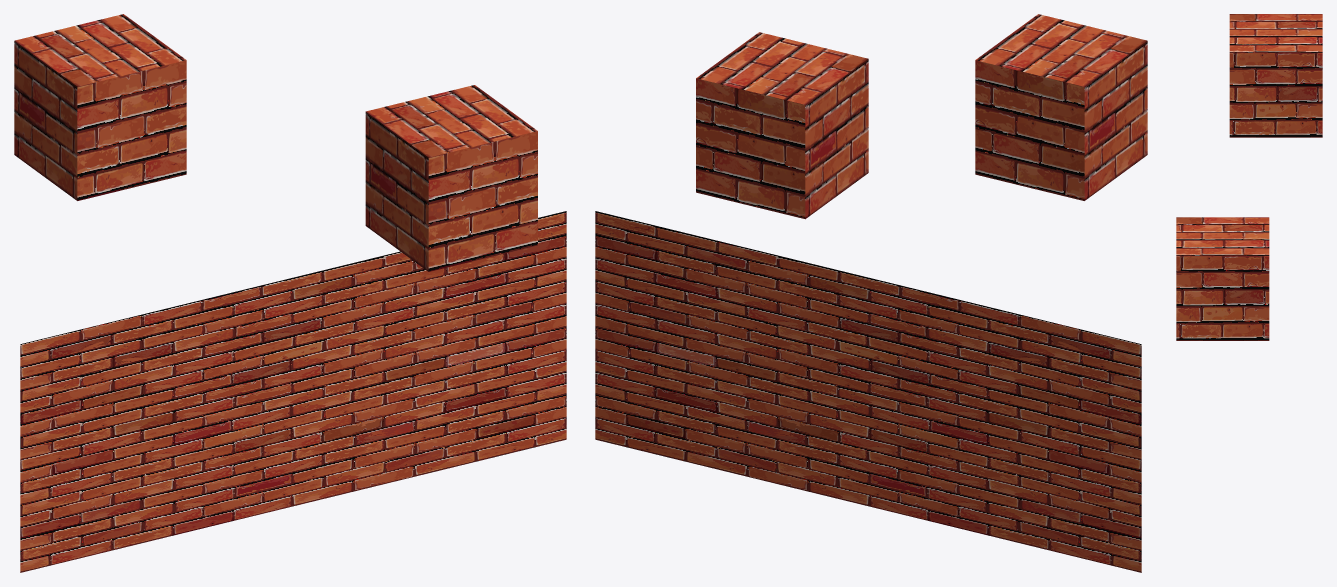
The picture shows the model from 3 angles, left to right: view 1: azimuth 30°, elevation 25°; view 2: azimuth 150°, elevation 25°; view 3: azimuth 270°, elevation 25°; orthographic projection. The views are drawn at different scales.
Visible parts, largest first — view 1: Plane, Cube, Cube.001; view 2: Plane, Cube.001, Cube; view 3: Cube, Cube.001.
Boxes of the visible parts, x1,y1,x2,y2 form: Plane: (20,211,566,572); Cube: (14,14,186,200); Cube.001: (365,85,537,271); Plane: (595,211,1141,572); Cube.001: (696,32,868,219); Cube: (975,14,1147,200); Cube: (1229,14,1322,137); Cube.001: (1176,217,1269,340).
Bounding box in the file's own units: 10 × 8.8 × 3.14.
1 material, 1 textured.
